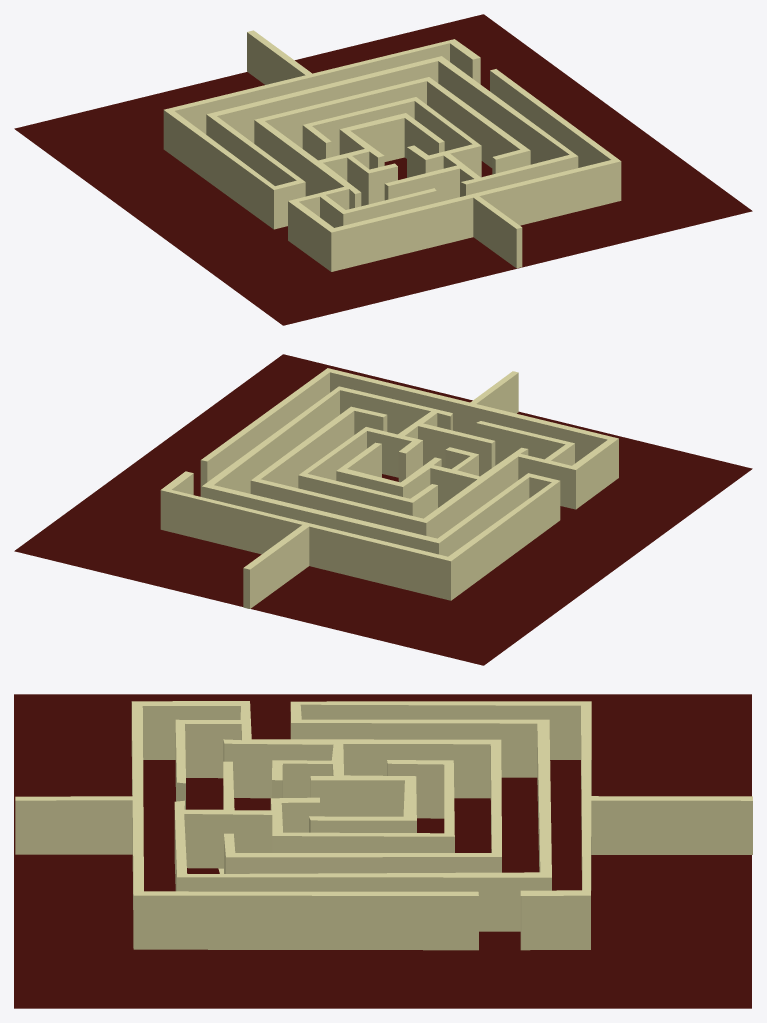
File: maze.glb
The picture shows the model from 3 angles, top to bottom: view 1: azimuth 30°, elevation 25°; view 2: azimuth 150°, elevation 25°; view 3: azimuth 270°, elevation 25°; orthographic projection. The views are drawn at different scales.
Visible parts, largest first — view 1: Plane_1; view 2: Plane_1; view 3: Plane_1.
Boxes of the visible parts, <box> form: Plane_1: <box>14,14,752,325</box>; Plane_1: <box>14,354,752,665</box>; Plane_1: <box>14,694,752,1008</box>.
Size of the model in its own units: 6.07 by 0.4877 by 6.03.
